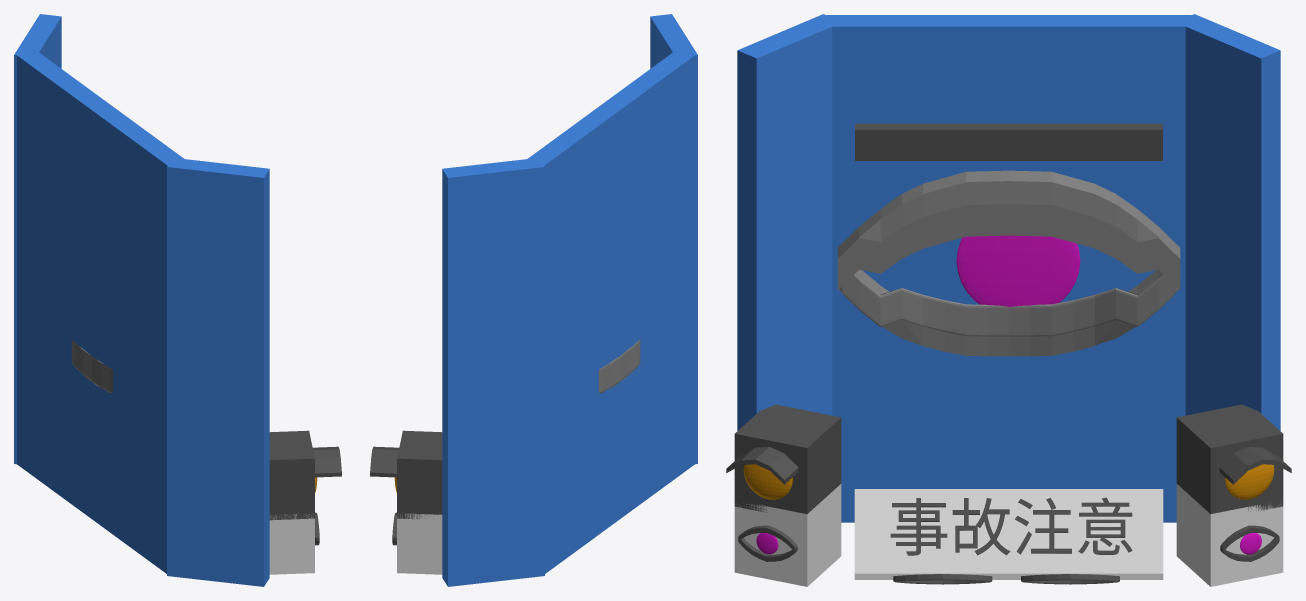
File: kaken.glb
3 renders of one model, left to right at view 1: azimuth 30°, elevation 25°; view 2: azimuth 150°, elevation 25°; view 3: azimuth 270°, elevation 25°, orthographic. The views are drawn at different scales.
Visible parts, largest first — view 1: Cube, Cube.001, 立方体.010, Cube.002, 立方体.006, 立方体.002, 立方体.012; view 2: Cube, Cube.002, 立方体.011, Cube.001, 立方体.009, 立方体.002, 立方体.013; view 3: Cube, Cube.002, Cube.001, 立方体.003, 立方体.001, 立方体.002, 立方体, 立方体.010, 立方体.011, 球, 立方体.006, 立方体.009 (+9 smaller).
Boxes of the visible parts, x1,y1,x2,y2 form: Cube: (17, 50, 186, 573); Cube.001: (167, 159, 269, 586); 立方体.010: (269, 430, 314, 520); Cube.002: (14, 14, 61, 464); 立方体.006: (269, 514, 314, 574); 立方体.002: (71, 340, 113, 393); 立方体.012: (312, 446, 341, 477); Cube: (525, 50, 694, 573); Cube.002: (442, 158, 544, 586); 立方体.011: (397, 430, 442, 519); Cube.001: (650, 14, 697, 464); 立方体.009: (397, 513, 442, 574); 立方体.002: (598, 340, 640, 393); 立方体.013: (370, 446, 399, 477); Cube: (826, 15, 1191, 522); Cube.002: (1178, 14, 1280, 430); Cube.001: (737, 14, 841, 430); 立方体.003: (854, 489, 1163, 579); 立方体.001: (837, 170, 1180, 290); 立方体.002: (839, 269, 1178, 356); 立方体: (855, 123, 1162, 160); 立方体.010: (734, 404, 841, 514); 立方体.011: (1176, 404, 1283, 514); 球: (956, 235, 1080, 306); 立方体.006: (734, 484, 841, 586); 立方体.009: (1176, 484, 1283, 586).
Bounding box in the file's own units: 1.18 × 3.12 × 3.1.
